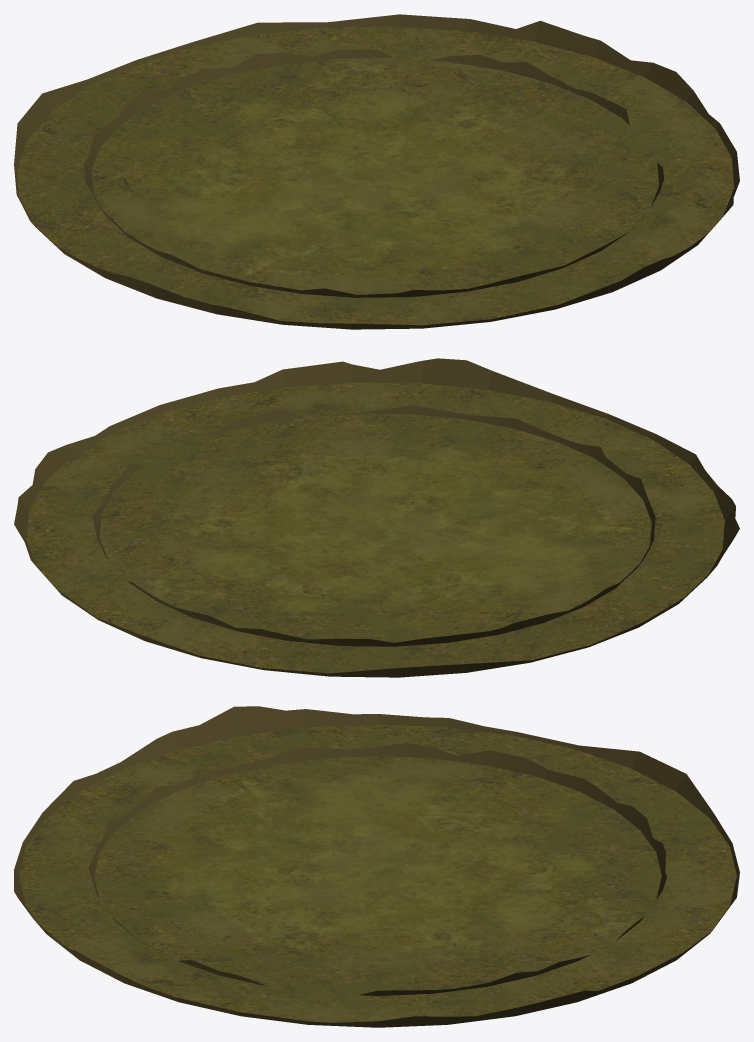
The model's file is Enviroment.fbx.
3 views of the same model, one above another, from view 1: azimuth 30°, elevation 25°; view 2: azimuth 150°, elevation 25°; view 3: azimuth 270°, elevation 25° (orthographic). The views are drawn at different scales.
Parts seen in each view (by area): view 1: Cylinder_w_ground.005; view 2: Cylinder_w_ground.005; view 3: Cylinder_w_ground.005.
Boxes of the visible parts, x1,y1,x2,y2 form: Cylinder_w_ground.005: (14,14,739,329); Cylinder_w_ground.005: (14,358,739,677); Cylinder_w_ground.005: (14,706,739,1027).
Size of the model in its own units: 10137 by 338 by 10043.
1 material, 1 textured.
